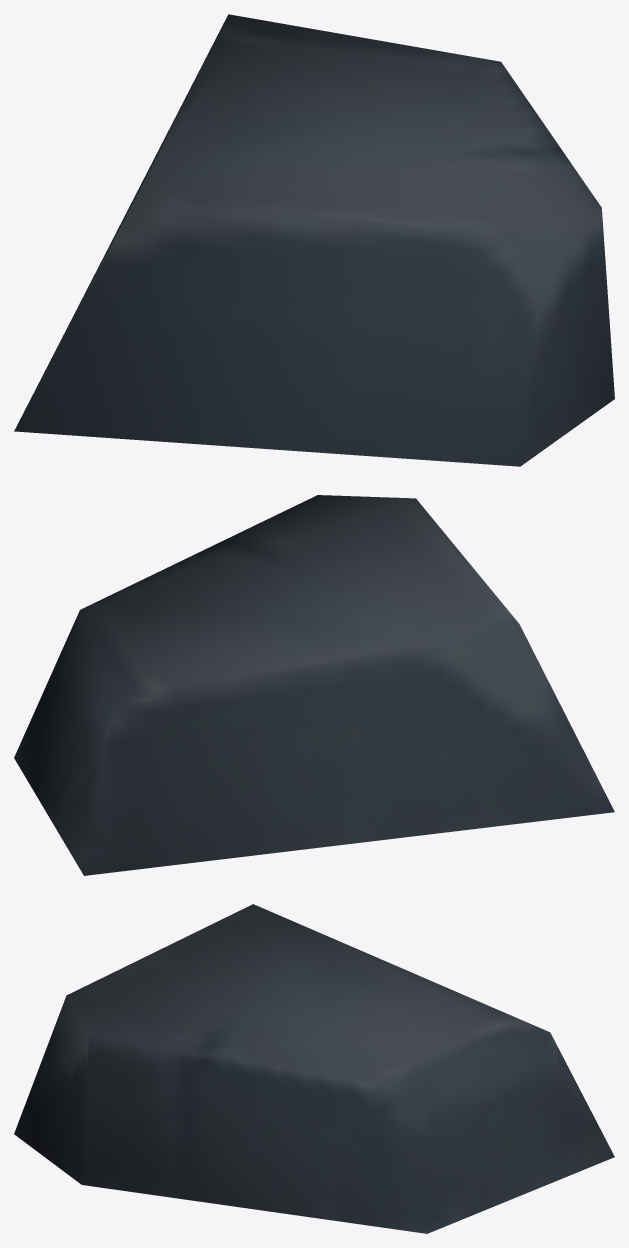
The model's file is Area_07_24.fbx.
3 views of the same model, one above another, from view 1: azimuth 30°, elevation 25°; view 2: azimuth 150°, elevation 25°; view 3: azimuth 270°, elevation 25° (orthographic). The views are drawn at different scales.
Visible parts, largest first — view 1: Area_07_24; view 2: Area_07_24; view 3: Area_07_24.
Part boxes in pixels (<box>): Area_07_24: <box>14,14,614,466</box>; Area_07_24: <box>14,495,614,875</box>; Area_07_24: <box>14,904,614,1233</box>.
Bounding box in the file's own units: 85.59 × 26.43 × 96.96.
